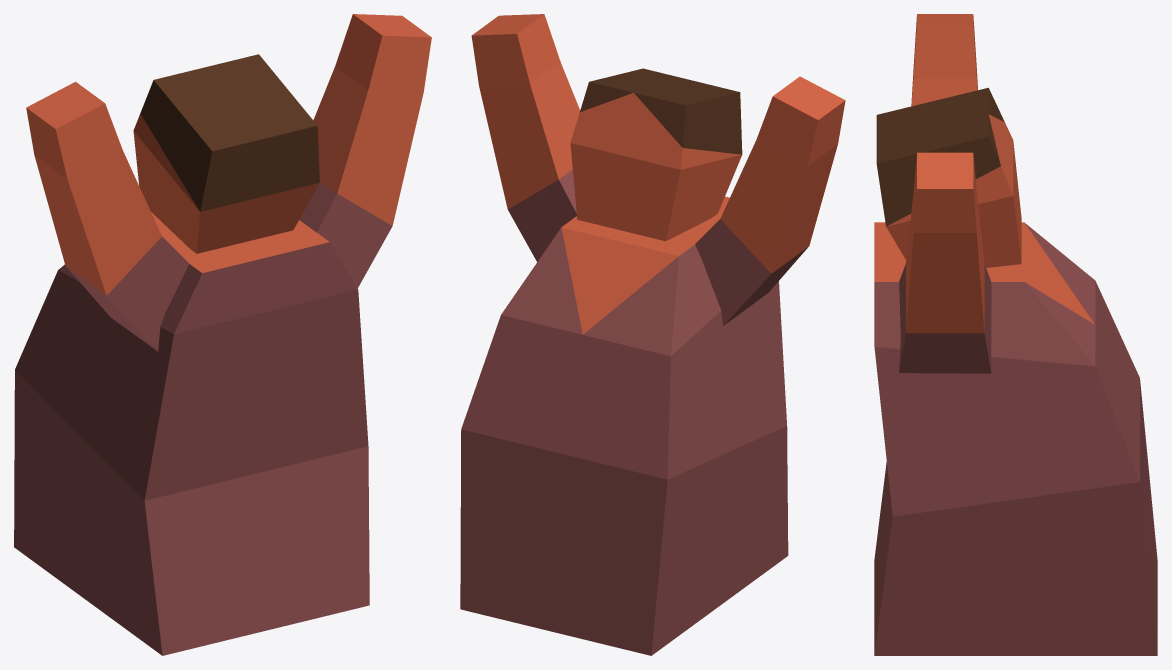
Rendered from spectator_02.fbx.
The picture shows the model from 3 angles, left to right: view 1: azimuth 30°, elevation 25°; view 2: azimuth 150°, elevation 25°; view 3: azimuth 270°, elevation 25°; orthographic projection. The views are drawn at different scales.
Visible parts, largest first — view 1: spectator_02; view 2: spectator_02; view 3: spectator_02.
Part boxes in pixels (left/top/right/bottom): spectator_02: left=14, top=14, right=431, bottom=655; spectator_02: left=460, top=14, right=845, bottom=655; spectator_02: left=874, top=14, right=1157, bottom=655.
Bounding box in the file's own units: 184 × 254 × 125.
